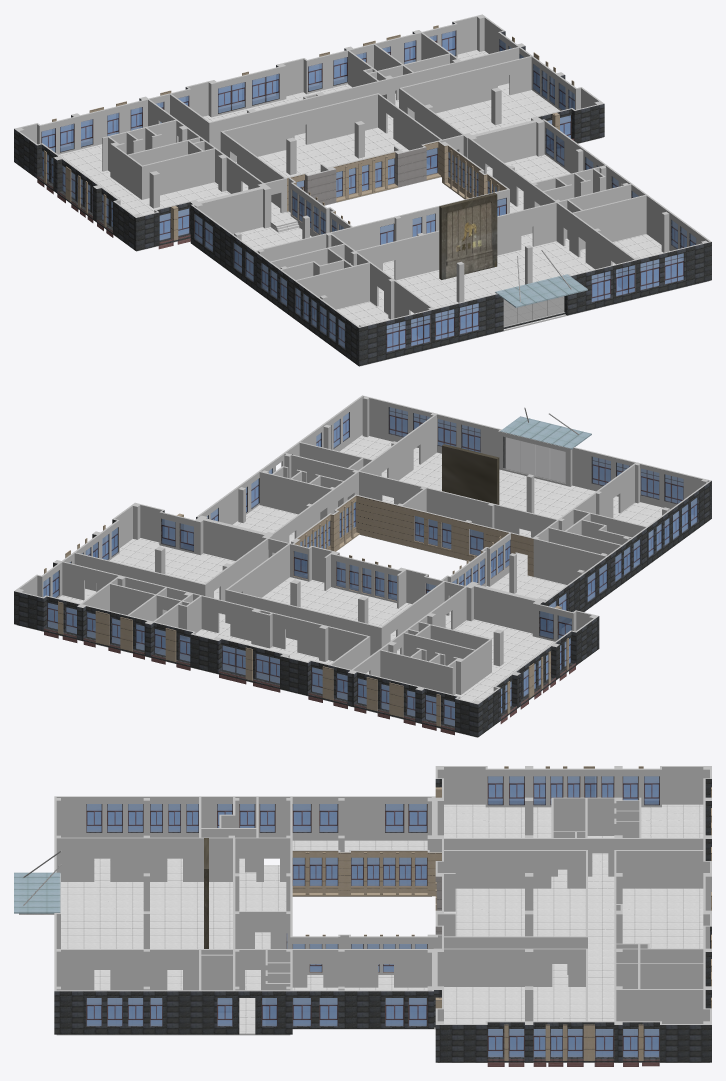
The picture shows the model from 3 angles, top to bottom: view 1: azimuth 30°, elevation 25°; view 2: azimuth 150°, elevation 25°; view 3: azimuth 270°, elevation 25°; orthographic projection. The views are drawn at different scales.
Visible parts, largest first — view 1: LC_2F_qiang, LC_2F_diban, C_2F_chuang2, C_2F_chuang1, 2F_paibian, LC_2F_KTWQ, 2Fdamen; view 2: LC_2F_qiang, LC_2F_diban, C_2F_chuang2, LC_2F_KTWQ, 2Fdamen, C_2F_chuang1, 2F_paibian; view 3: LC_2F_qiang, LC_2F_diban, C_2F_chuang2, LC_2F_KTWQ, 2Fdamen, 2F_paibian.
Part boxes in pixels (x1,y1,x2,y2): LC_2F_qiang: [14, 14, 711, 366]; LC_2F_diban: [58, 50, 708, 366]; C_2F_chuang2: [41, 30, 696, 348]; C_2F_chuang1: [386, 253, 683, 352]; 2F_paibian: [439, 192, 497, 279]; LC_2F_KTWQ: [37, 25, 574, 249]; 2Fdamen: [495, 250, 587, 326]; LC_2F_qiang: [14, 395, 711, 737]; LC_2F_diban: [17, 435, 669, 737]; C_2F_chuang2: [43, 412, 697, 726]; LC_2F_KTWQ: [44, 500, 576, 735]; 2Fdamen: [500, 407, 591, 483]; C_2F_chuang1: [389, 407, 683, 503]; 2F_paibian: [442, 444, 499, 504]; LC_2F_qiang: [54, 766, 711, 1062]; LC_2F_diban: [57, 804, 709, 1062]; C_2F_chuang2: [86, 776, 659, 1057]; LC_2F_KTWQ: [292, 766, 711, 1066]; 2Fdamen: [14, 850, 61, 914]; 2F_paibian: [204, 838, 208, 948].
Size of the model in its own units: 57612 by 8827 by 65658.
Materials: 14 (12 with a texture image).
